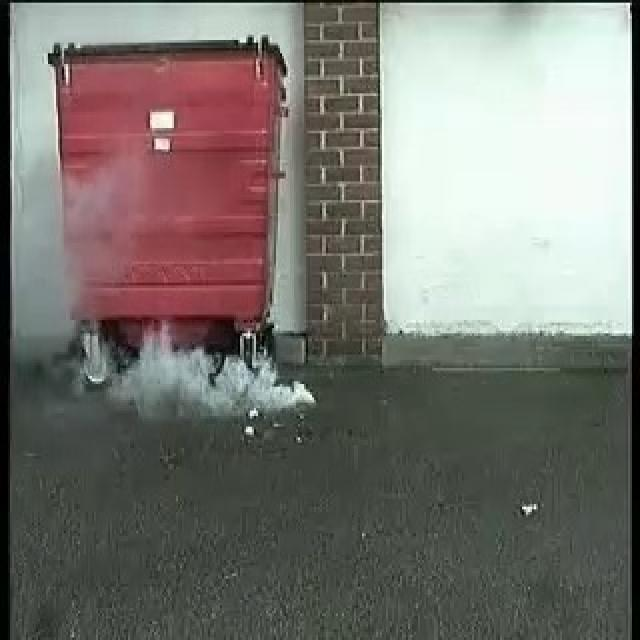smoke: (128, 340, 316, 422)
